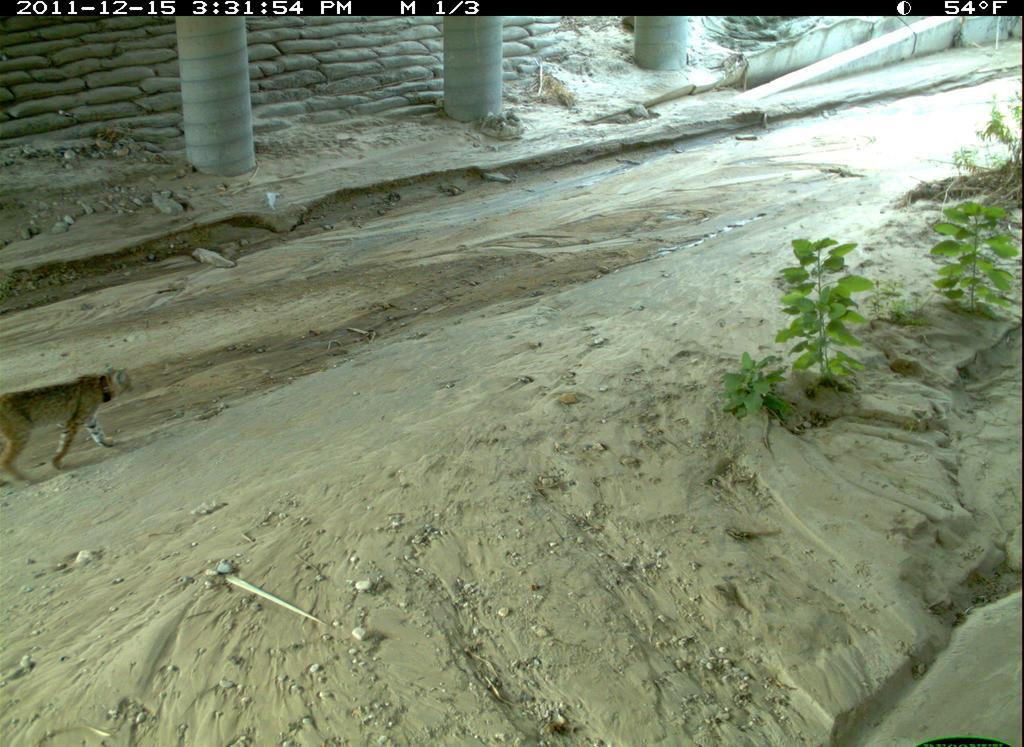bobcat: (1, 360, 148, 493)
